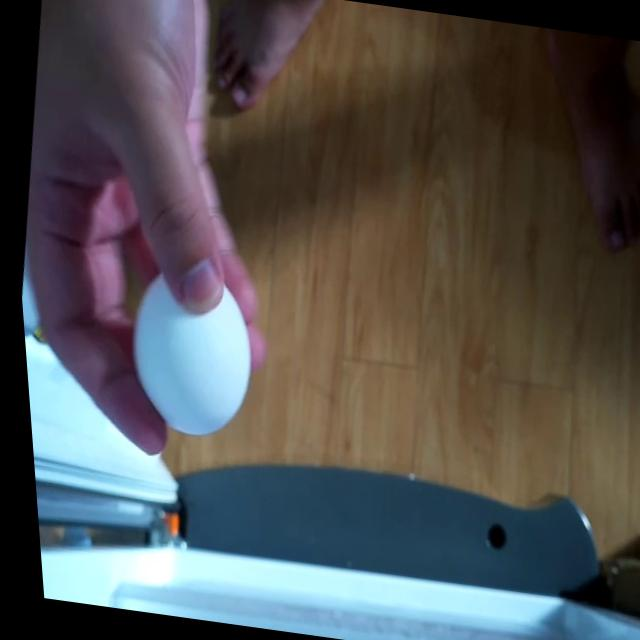egg: (102, 269, 261, 452)
